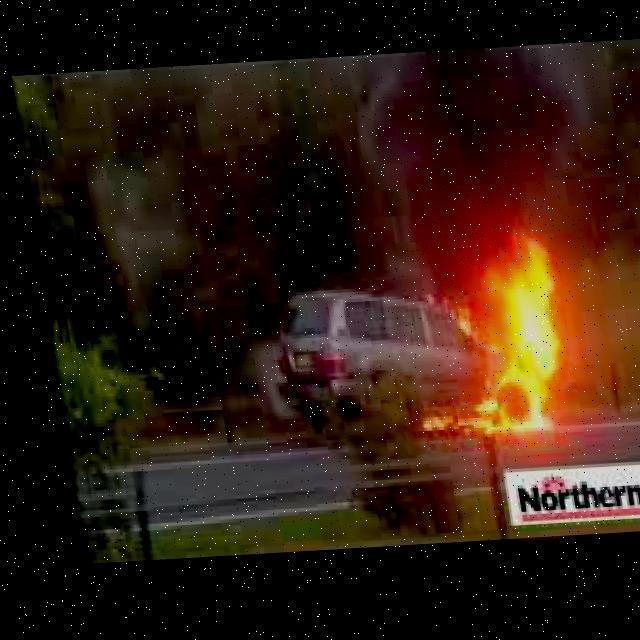Fire: (405, 246, 593, 462)
